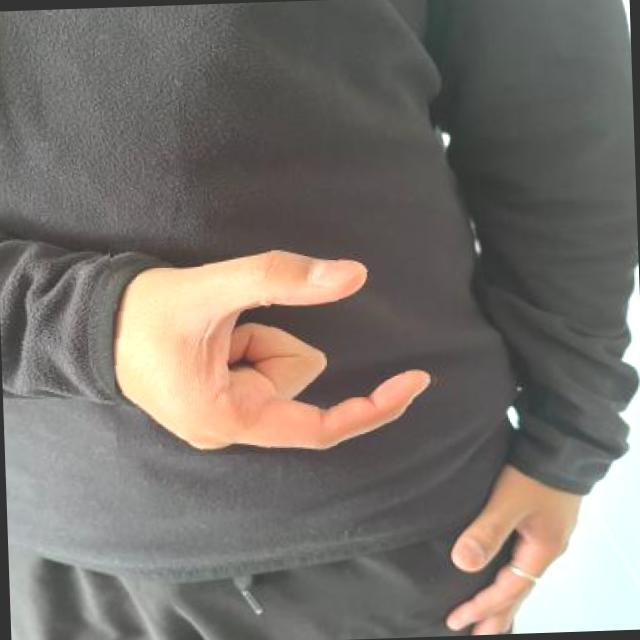G: (109, 227, 448, 458)
